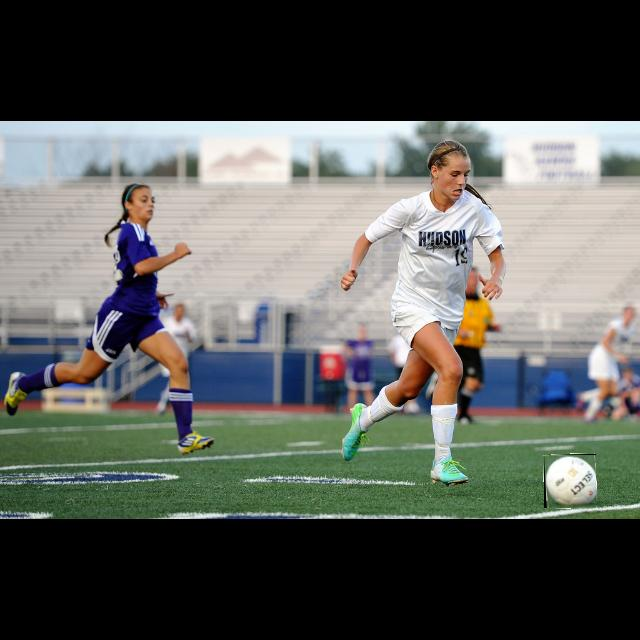Football: (544, 454, 596, 508)
